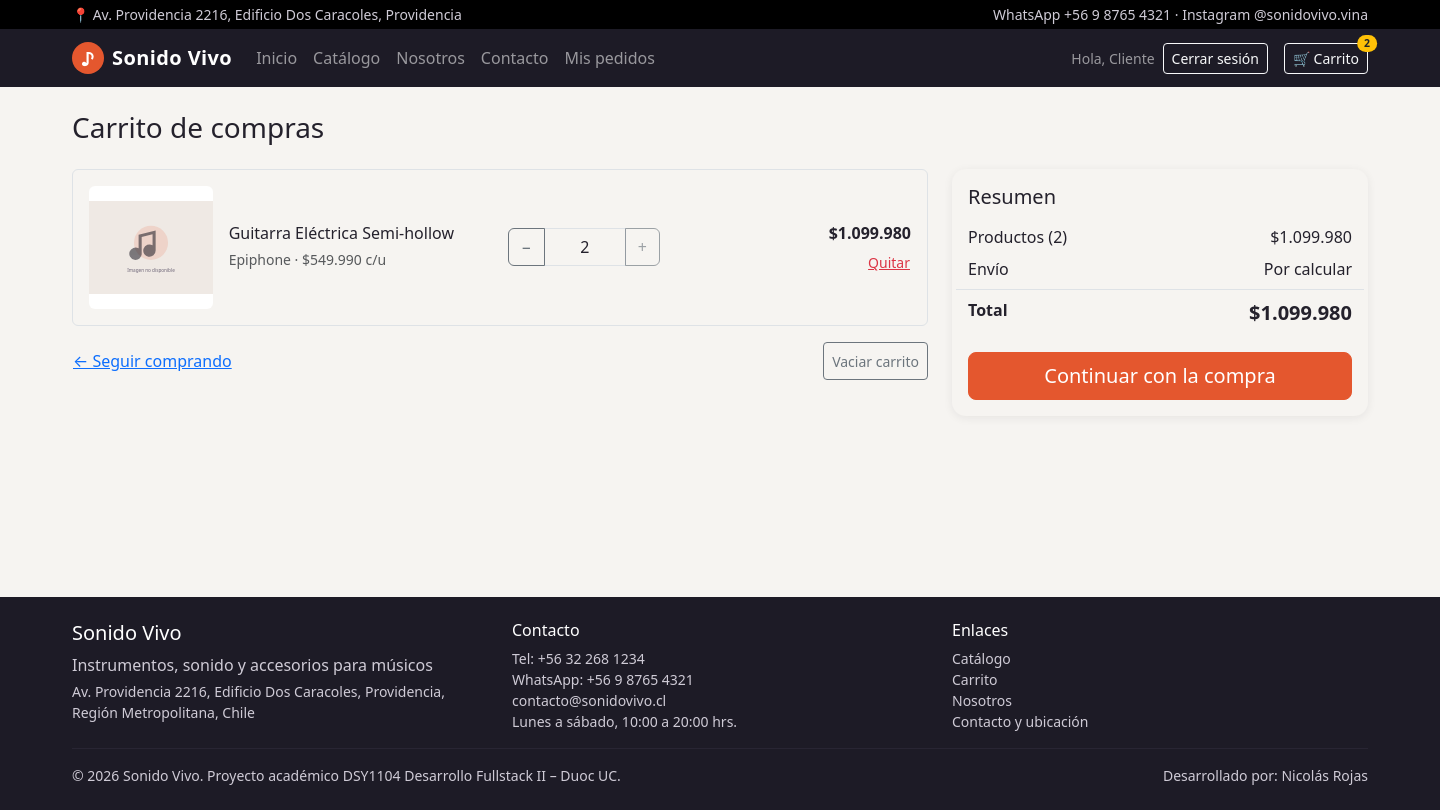
Test: Flujo de compra: Carrito → Checkout → Mis pedidos › en el carrito se puede cambiar la cantidad, quitar productos y queda vacío
The width and height of the screenshot is (1440, 810).
Click the button named "Disminuir cantidad" at (526, 247), box [508,228,545,266]
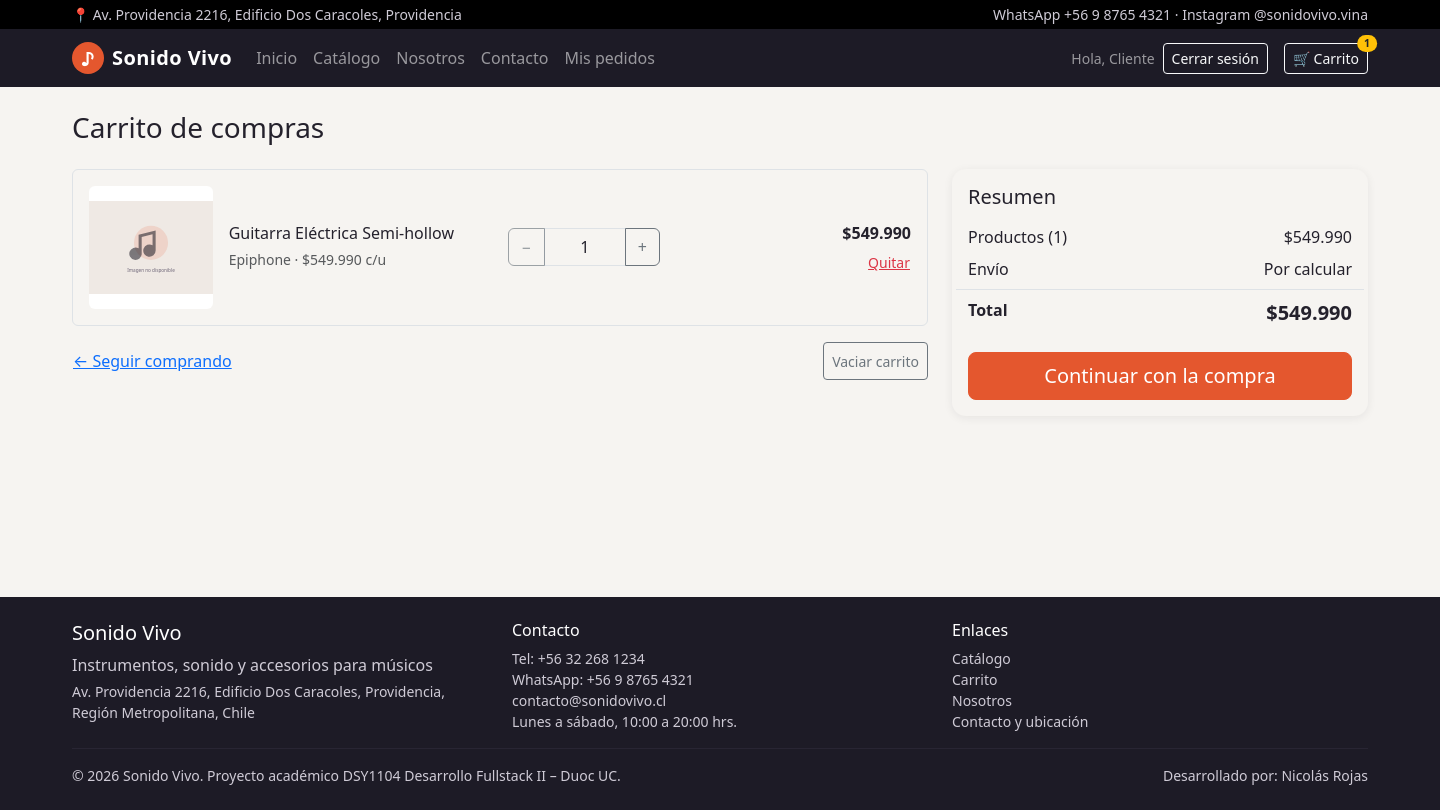
Now the text with test id "total" reads "$549.990", box [1266,299,1352,326]
Click the button with aria-label "Quitar Guitarra Eléctrica Semi-hollow del carrito" at (889, 262), box [867,251,911,274]
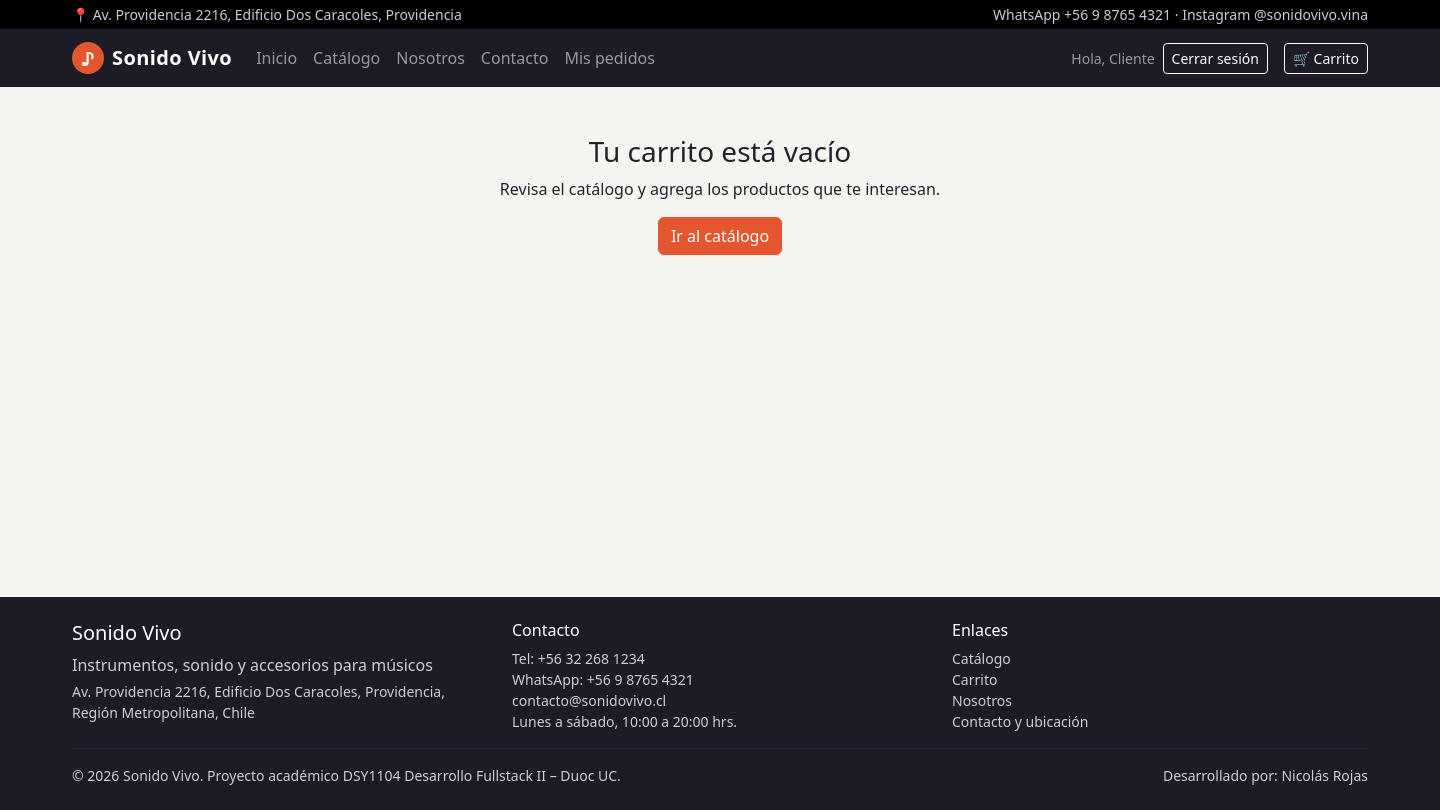
Now the heading "Tu carrito está vacío" is shown, box [589,132,851,170]
